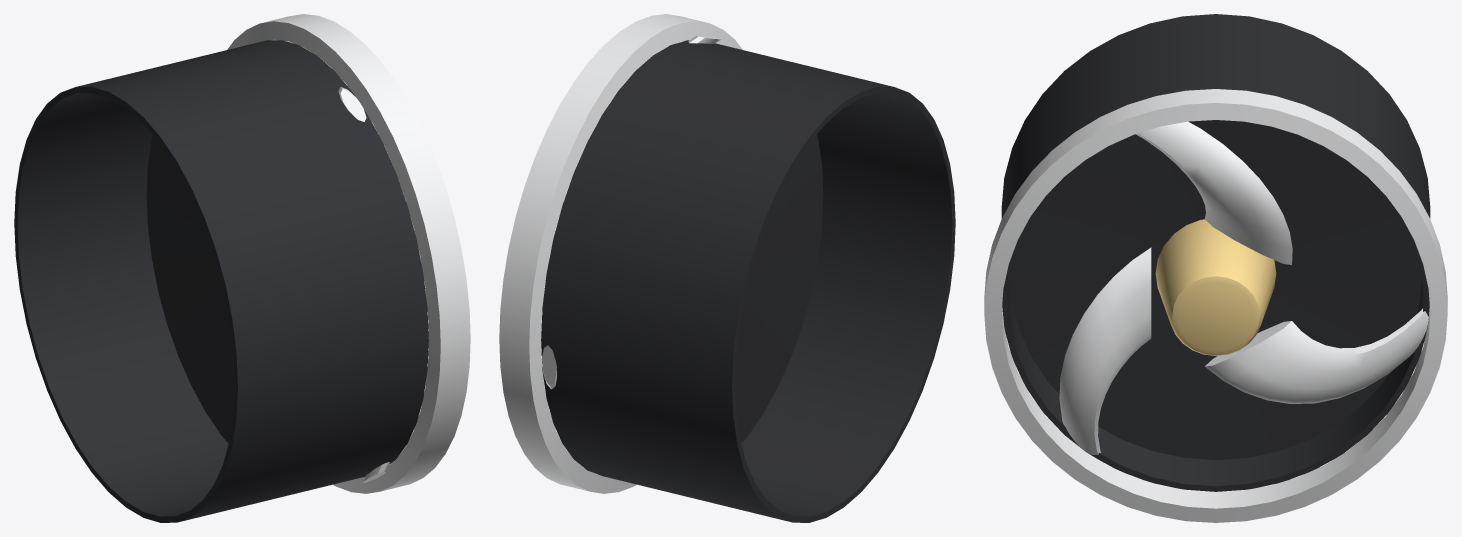
File: rim_blade.fbx
3 renders of one model, left to right at view 1: azimuth 30°, elevation 25°; view 2: azimuth 150°, elevation 25°; view 3: azimuth 270°, elevation 25°, orthographic. The views are drawn at different scales.
Visible parts, largest first — view 1: dark_1, chrome_1; view 2: dark_1, chrome_1; view 3: dark_1, chrome_1, gold_1.
Boxes of the visible parts, x1,y1,x2,y2 form: dark_1: (14, 40, 428, 522); chrome_1: (227, 14, 470, 493); dark_1: (541, 40, 955, 522); chrome_1: (499, 14, 742, 493); dark_1: (1001, 14, 1430, 491); chrome_1: (984, 89, 1447, 522); gold_1: (1155, 219, 1276, 355).
Size of the model in its own units: 0.0227 by 0.0409 by 0.0409.
